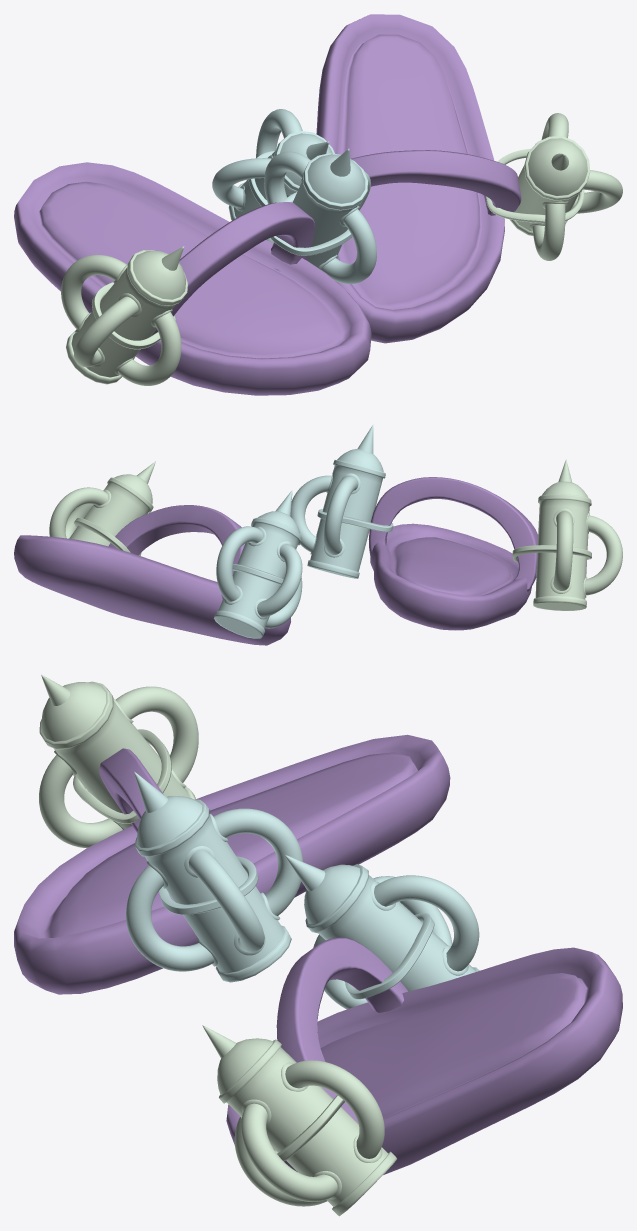
The model's file is rocketsandals_posed.fbx.
3 views of the same model, one above another, from view 1: azimuth 30°, elevation 25°; view 2: azimuth 150°, elevation 25°; view 3: azimuth 270°, elevation 25° (orthographic). The views are drawn at different scales.
Parts seen in each view (by area): view 1: sandal2, sandal1; view 2: sandal2, sandal1; view 3: sandal1, sandal2.
Part boxes in pixels (<box>): sandal2: <box>14,149,376,395</box>; sandal1: <box>212,14,622,343</box>; sandal2: <box>290,425,622,630</box>; sandal1: <box>14,461,302,645</box>; sandal1: <box>202,855,622,1216</box>; sandal2: <box>14,674,450,994</box>.
Size of the model in its own units: 1.16 by 0.4579 by 0.79.
